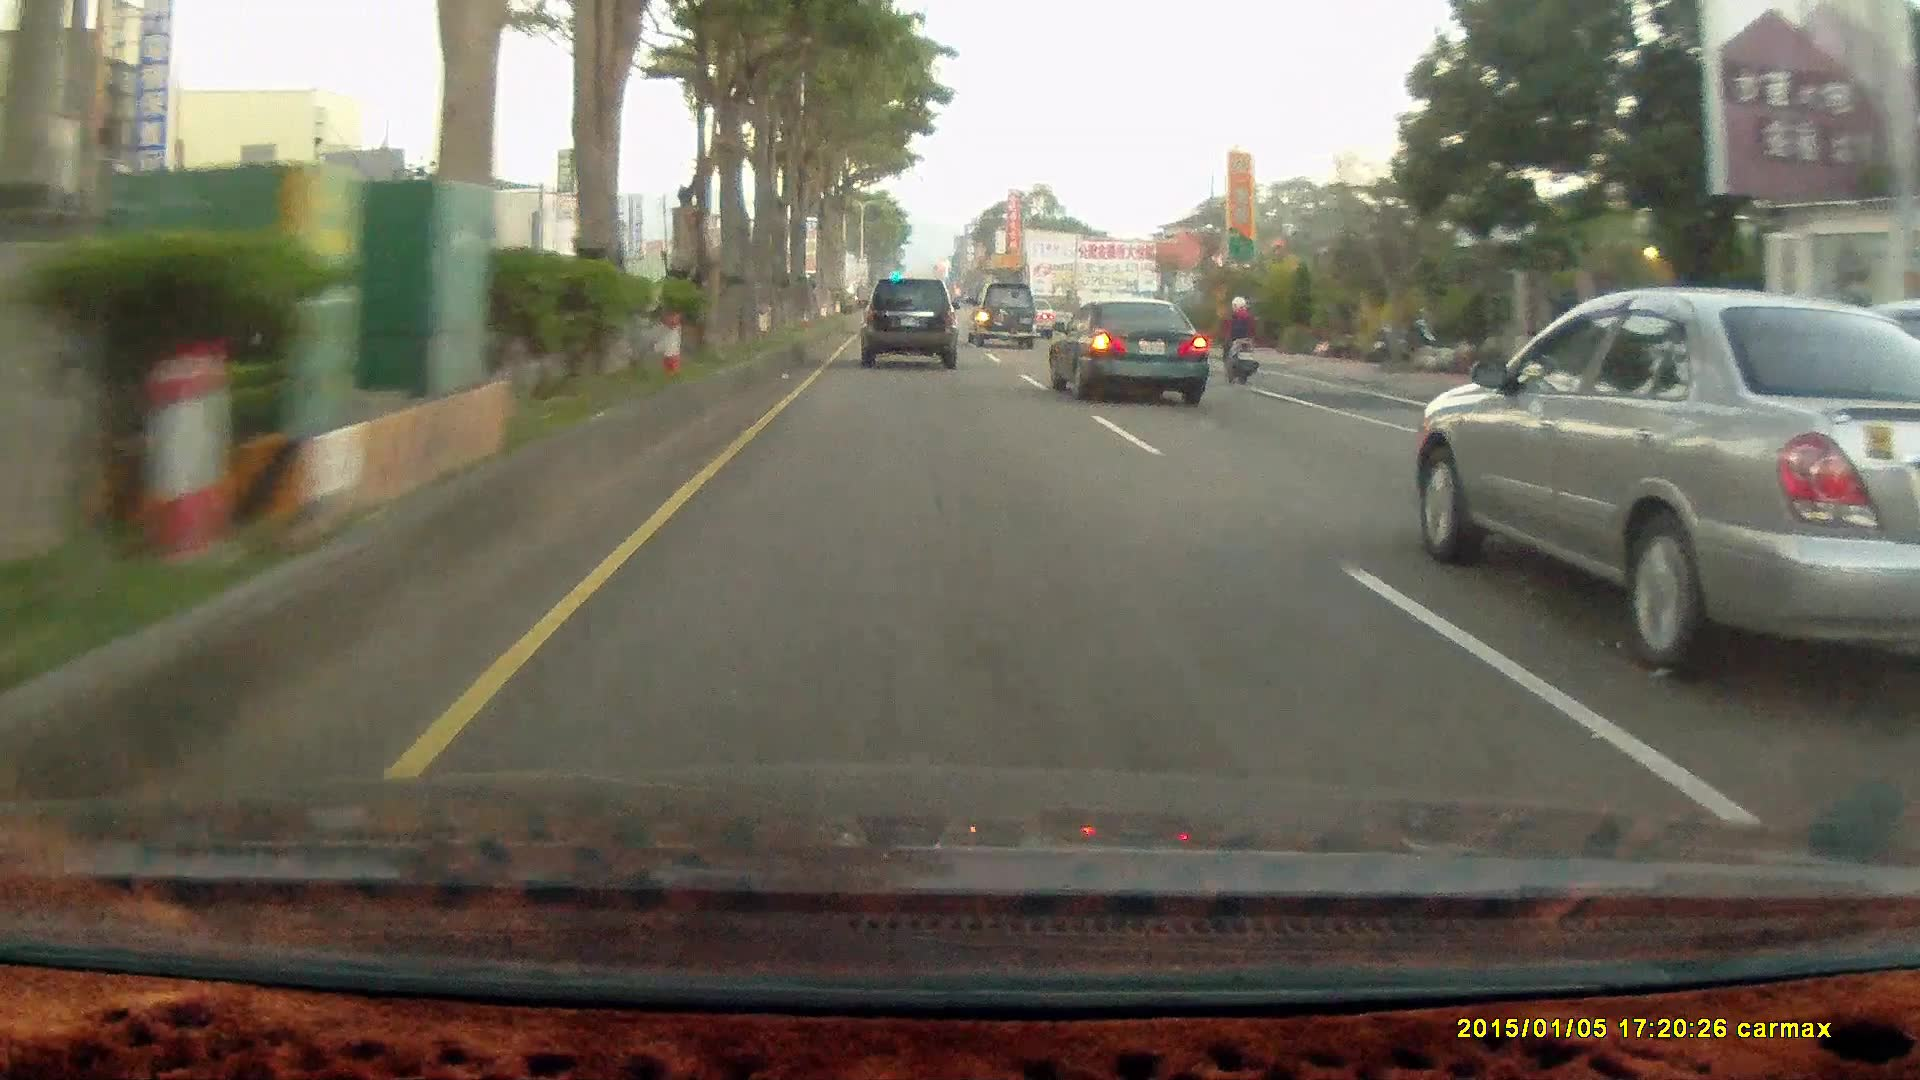rider: (1211, 288, 1267, 394), (1214, 288, 1261, 381)
vehicle: (1411, 292, 1919, 687), (1051, 297, 1215, 403), (1045, 295, 1207, 401), (861, 270, 964, 367), (857, 276, 957, 369), (967, 279, 1042, 349), (964, 281, 1039, 348)
